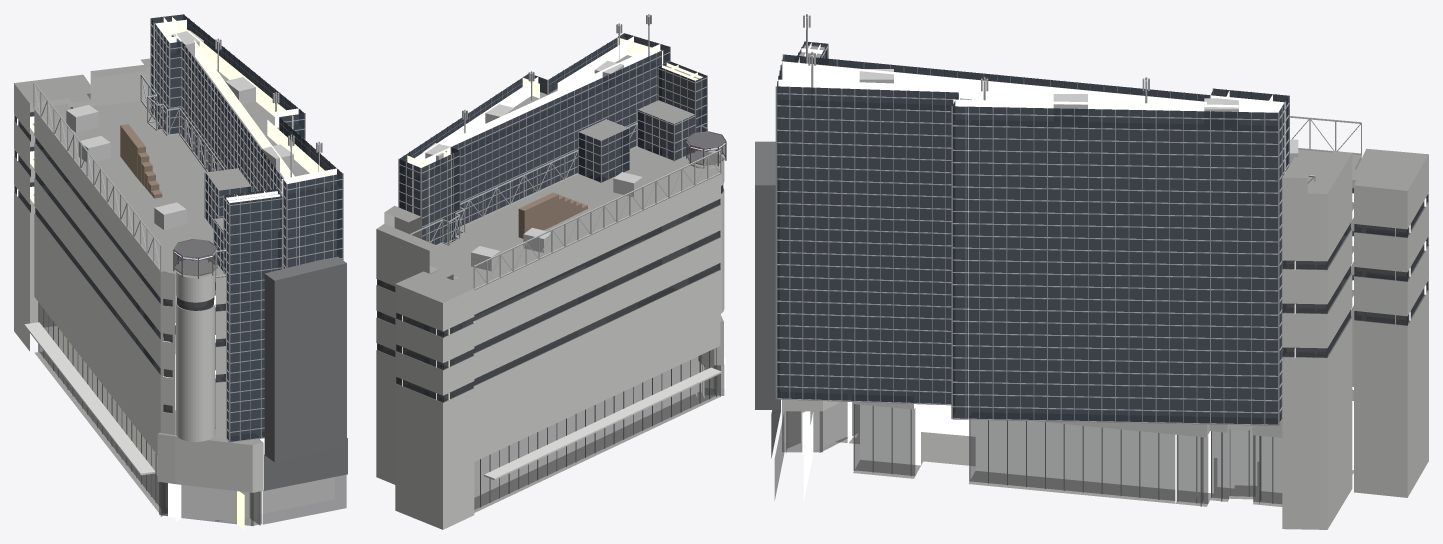
Rendered from magnet.glb.
3 renders of one model, left to right at view 1: azimuth 30°, elevation 25°; view 2: azimuth 150°, elevation 25°; view 3: azimuth 270°, elevation 25°, orthographic. The views are drawn at different scales.
Parts seen in each view (by area): view 1: 01_WEST_WING_white_panel, 03_TOWER_tower_glass, 04_SIGN_BOX_box_grey, 01_WEST_WING_roof, 03_TOWER_tower_mullion, 02_DRUM_drum_panel, 05_PODIUM_shop_glass, 05_PODIUM_white_panel, 03_TOWER_interior, 05_PODIUM_interior, 06_ROOFTOP_steel, 01_WEST_WING_ribbon_glass (+11 smaller); view 2: 01_WEST_WING_white_panel, 03_TOWER_tower_glass, 01_WEST_WING_roof, 03_TOWER_tower_mullion, 01_WEST_WING_shop_glass, 01_WEST_WING_ribbon_glass, 01_WEST_WING_interior, 06_ROOFTOP_steel, 03_TOWER_interior, 01_WEST_WING_mullion, 05_PODIUM_canopy, 06_ROOFTOP_plant (+7 smaller); view 3: 03_TOWER_tower_glass, 01_WEST_WING_white_panel, 03_TOWER_tower_mullion, 01_WEST_WING_shop_glass, 01_WEST_WING_interior, 01_WEST_WING_roof, 03_TOWER_interior, 04_SIGN_BOX_box_grey, 01_WEST_WING_ribbon_glass, 01_WEST_WING_mullion, 05_PODIUM_shop_glass, 05_PODIUM_interior (+2 smaller).
Part boxes in pixels (left/top/right/bottom): 01_WEST_WING_white_panel: left=14, top=67, right=225, bottom=454; 03_TOWER_tower_glass: left=151, top=14, right=342, bottom=441; 04_SIGN_BOX_box_grey: left=264, top=256, right=346, bottom=462; 01_WEST_WING_roof: left=14, top=58, right=225, bottom=521; 03_TOWER_tower_mullion: left=150, top=14, right=343, bottom=442; 02_DRUM_drum_panel: left=176, top=270, right=215, bottom=441; 05_PODIUM_shop_glass: left=159, top=475, right=346, bottom=526; 05_PODIUM_white_panel: left=157, top=434, right=263, bottom=492; 03_TOWER_interior: left=154, top=17, right=336, bottom=264; 05_PODIUM_interior: left=168, top=477, right=334, bottom=529; 06_ROOFTOP_steel: left=33, top=38, right=322, bottom=277; 01_WEST_WING_ribbon_glass: left=14, top=107, right=225, bottom=413; 01_WEST_WING_white_panel: left=376, top=174, right=720, bottom=529; 03_TOWER_tower_glass: left=399, top=33, right=706, bottom=244; 01_WEST_WING_roof: left=377, top=147, right=720, bottom=512; 03_TOWER_tower_mullion: left=398, top=33, right=707, bottom=244; 01_WEST_WING_shop_glass: left=474, top=349, right=716, bottom=509; 01_WEST_WING_ribbon_glass: left=377, top=199, right=720, bottom=402; 01_WEST_WING_interior: left=402, top=277, right=699, bottom=497; 06_ROOFTOP_steel: left=410, top=14, right=721, bottom=290; 03_TOWER_interior: left=407, top=36, right=702, bottom=242; 01_WEST_WING_mullion: left=377, top=204, right=720, bottom=507; 05_PODIUM_canopy: left=484, top=367, right=721, bottom=480; 06_ROOFTOP_plant: left=422, top=60, right=642, bottom=271; 03_TOWER_tower_glass: left=777, top=41, right=1288, bottom=424; 01_WEST_WING_white_panel: left=853, top=153, right=1428, bottom=529; 03_TOWER_tower_mullion: left=775, top=41, right=1289, bottom=425; 01_WEST_WING_shop_glass: left=854, top=390, right=1353, bottom=504; 01_WEST_WING_interior: left=847, top=193, right=1426, bottom=503; 01_WEST_WING_roof: left=835, top=148, right=1428, bottom=506; 03_TOWER_interior: left=778, top=42, right=1285, bottom=419; 04_SIGN_BOX_box_grey: left=755, top=141, right=779, bottom=409; 01_WEST_WING_ribbon_glass: left=1282, top=188, right=1428, bottom=357; 01_WEST_WING_mullion: left=853, top=187, right=1428, bottom=506; 05_PODIUM_shop_glass: left=774, top=401, right=859, bottom=500; 05_PODIUM_interior: left=782, top=401, right=859, bottom=501.
Bounding box in the file's own units: 27.01 × 47.37 × 62.52.
